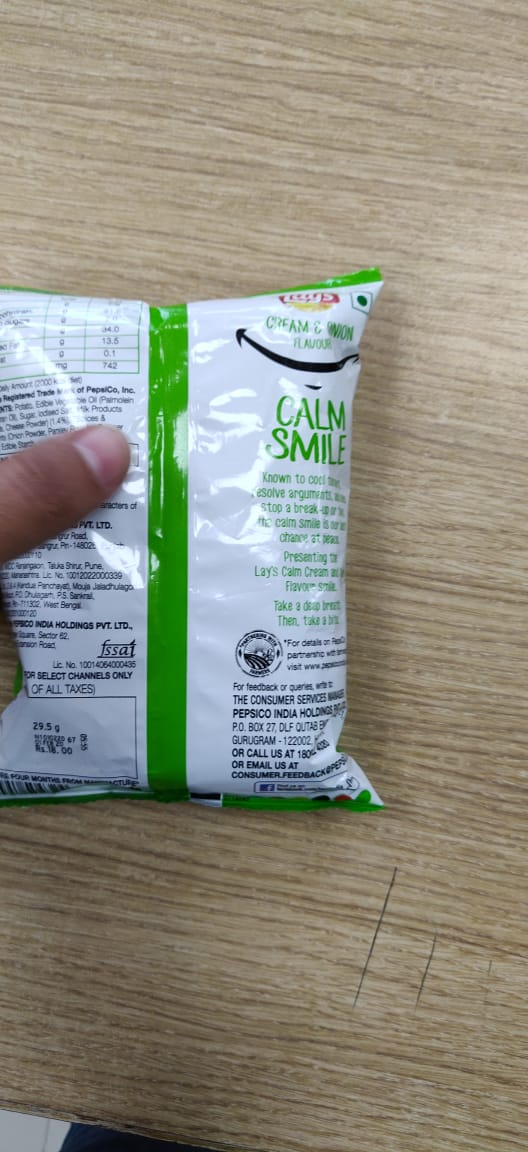lays chips: (1, 248, 412, 839)
